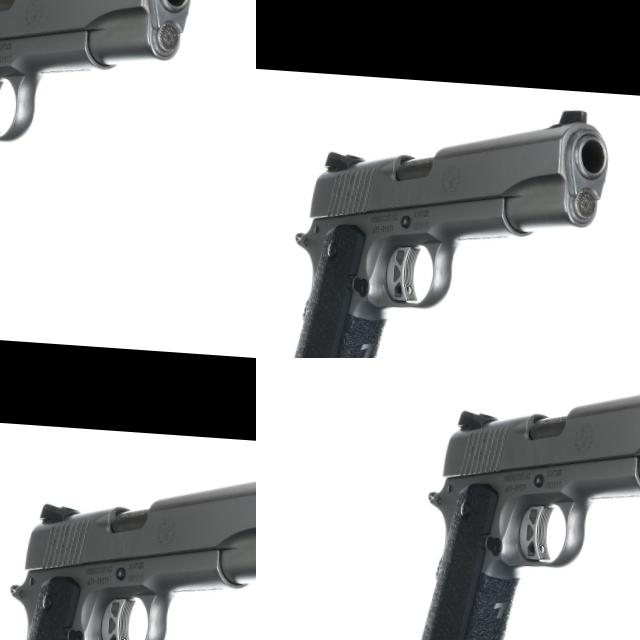handgun: (256, 61, 554, 358), (405, 358, 640, 640), (0, 612, 91, 640), (0, 0, 58, 40), (0, 458, 38, 494)
